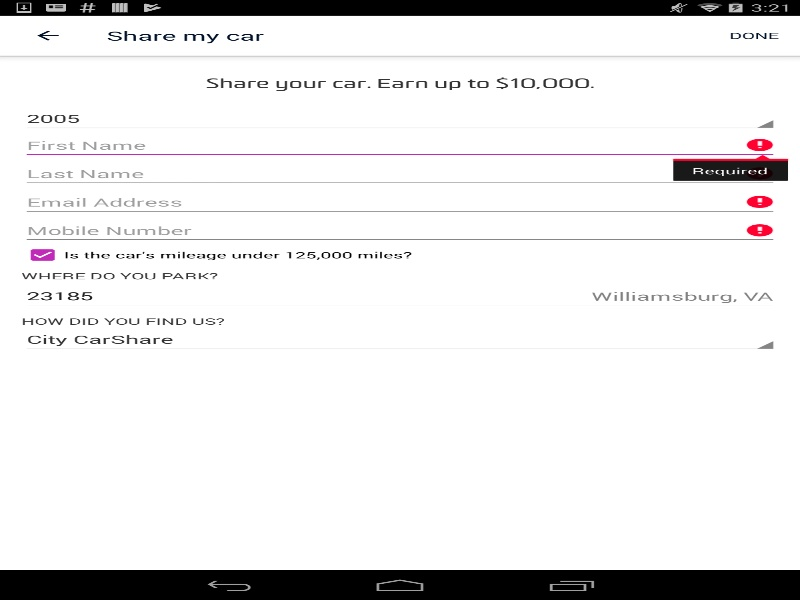Button: (10, 15, 85, 55)
Input: (21, 159, 778, 188), (21, 216, 778, 245), (21, 281, 778, 310), (21, 131, 778, 159), (21, 188, 778, 216)
